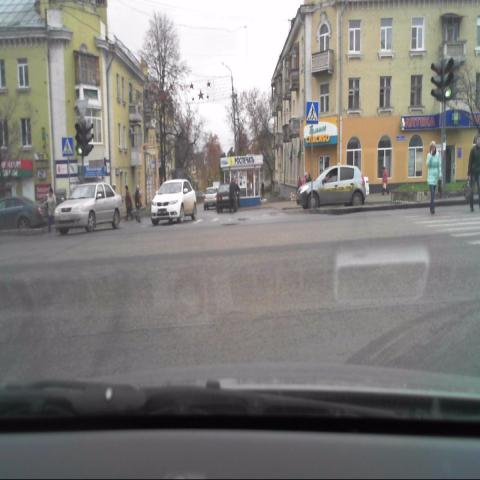5_19_1: (62, 133, 74, 158), (307, 102, 320, 124)
